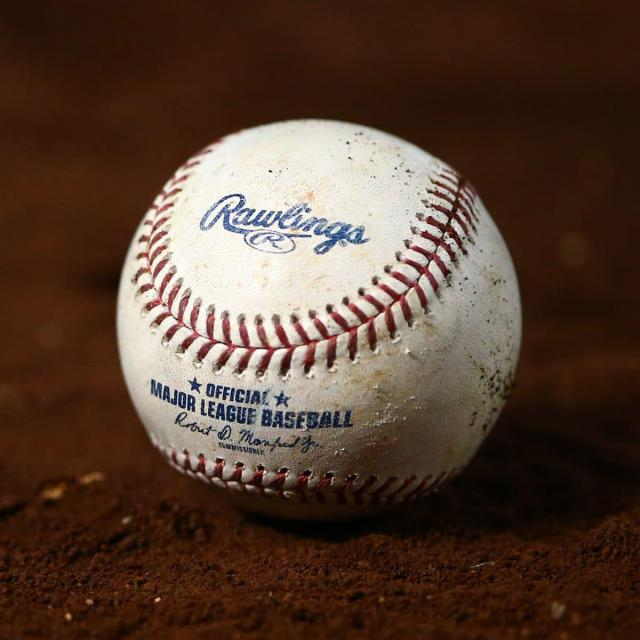baseball: (115, 116, 526, 530)
